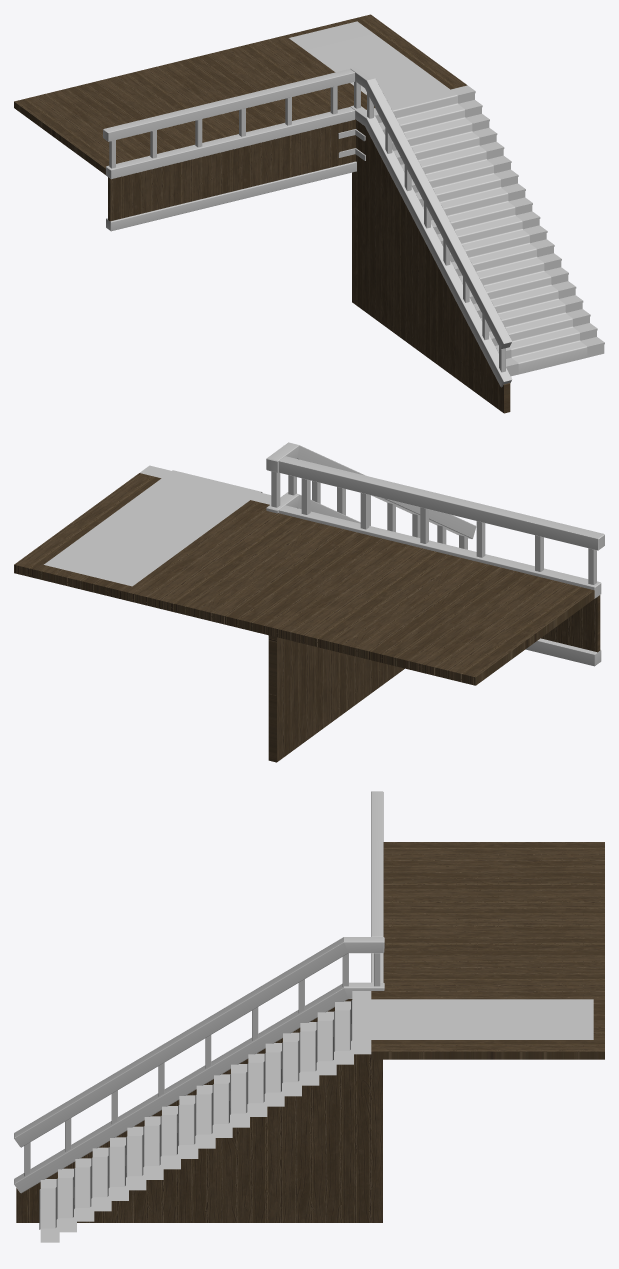
Rendered from SM_Staircase_00.fbx.
The picture shows the model from 3 angles, top to bottom: view 1: azimuth 30°, elevation 25°; view 2: azimuth 150°, elevation 25°; view 3: azimuth 270°, elevation 25°; orthographic projection. The views are drawn at different scales.
Visible parts, largest first — view 1: SM_Staircase_00; view 2: SM_Staircase_00; view 3: SM_Staircase_00.
Part boxes in pixels (x1,y1,x2,y2): SM_Staircase_00: [14, 14, 604, 413]; SM_Staircase_00: [14, 442, 604, 762]; SM_Staircase_00: [14, 791, 604, 1242].
Size of the model in its own units: 867 by 539 by 1023.
